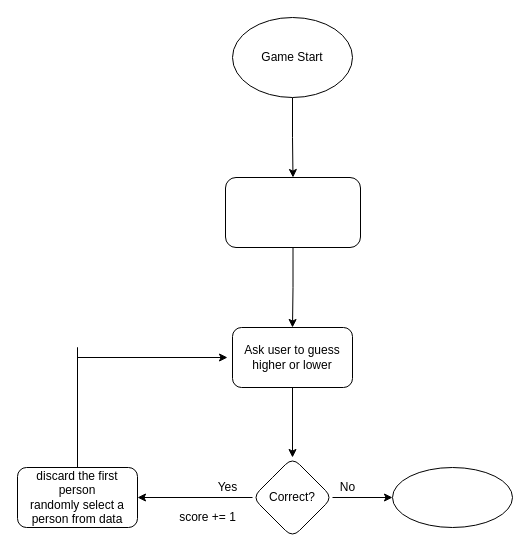
The diagram is 530 pixels wide and 555 high, and some of its shapes have lost their labels. The centre of each missing label's shape, as x and y in pixels:
Game over: [452,497]
import data print logo init score=0 randomly select two person from data: [292,212]
